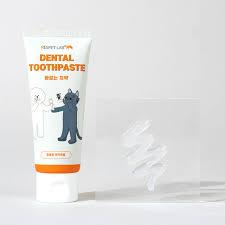toothpaste: (18, 27, 94, 208)
